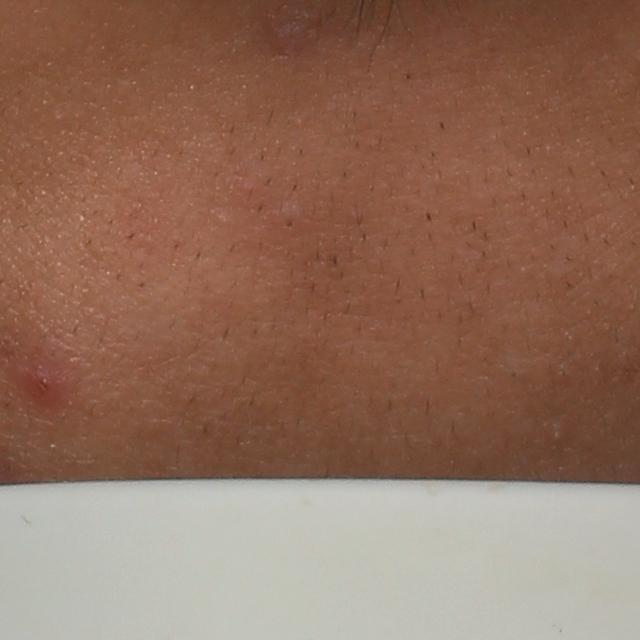papule: (18, 358, 64, 403)
